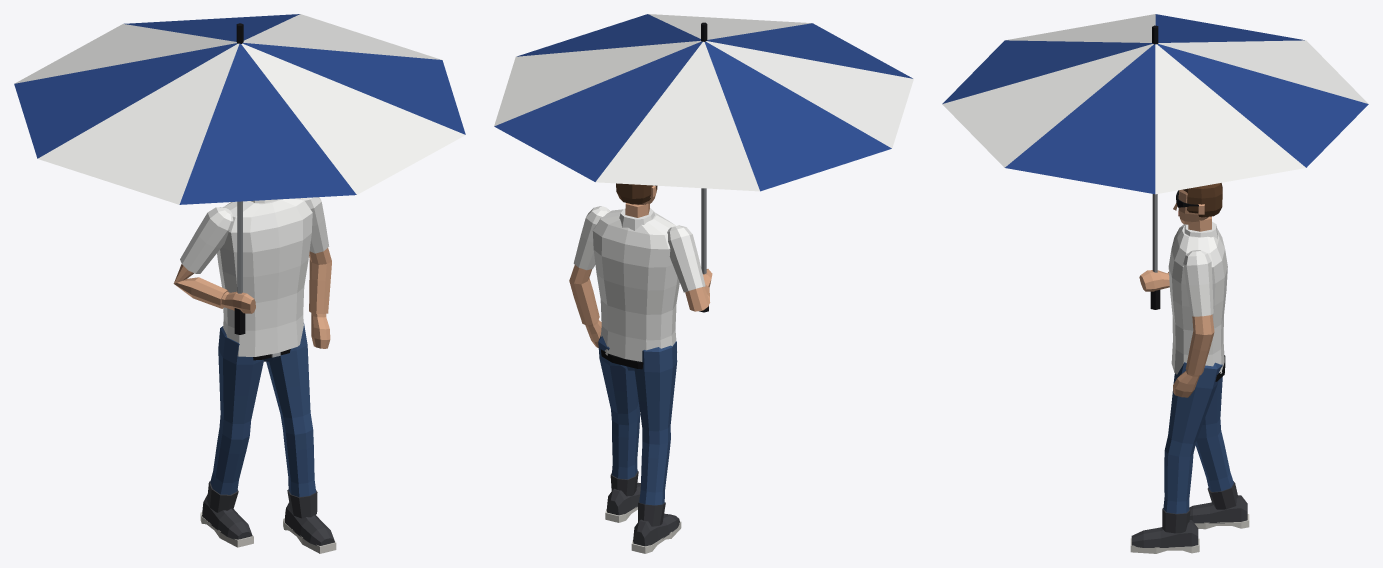
Rendered from fan_parasol.glb.
The picture shows the model from 3 angles, left to right: view 1: azimuth 30°, elevation 25°; view 2: azimuth 150°, elevation 25°; view 3: azimuth 270°, elevation 25°; orthographic projection. The views are drawn at different scales.
Visible parts, largest first — view 1: Track; view 2: Track; view 3: Track.
Part boxes in pixels (bbox=[...]): Track: bbox=[14, 14, 465, 553]; Track: bbox=[494, 14, 913, 553]; Track: bbox=[942, 14, 1368, 553].
Size of the model in its own units: 1.9 by 2.4 by 1.9.
